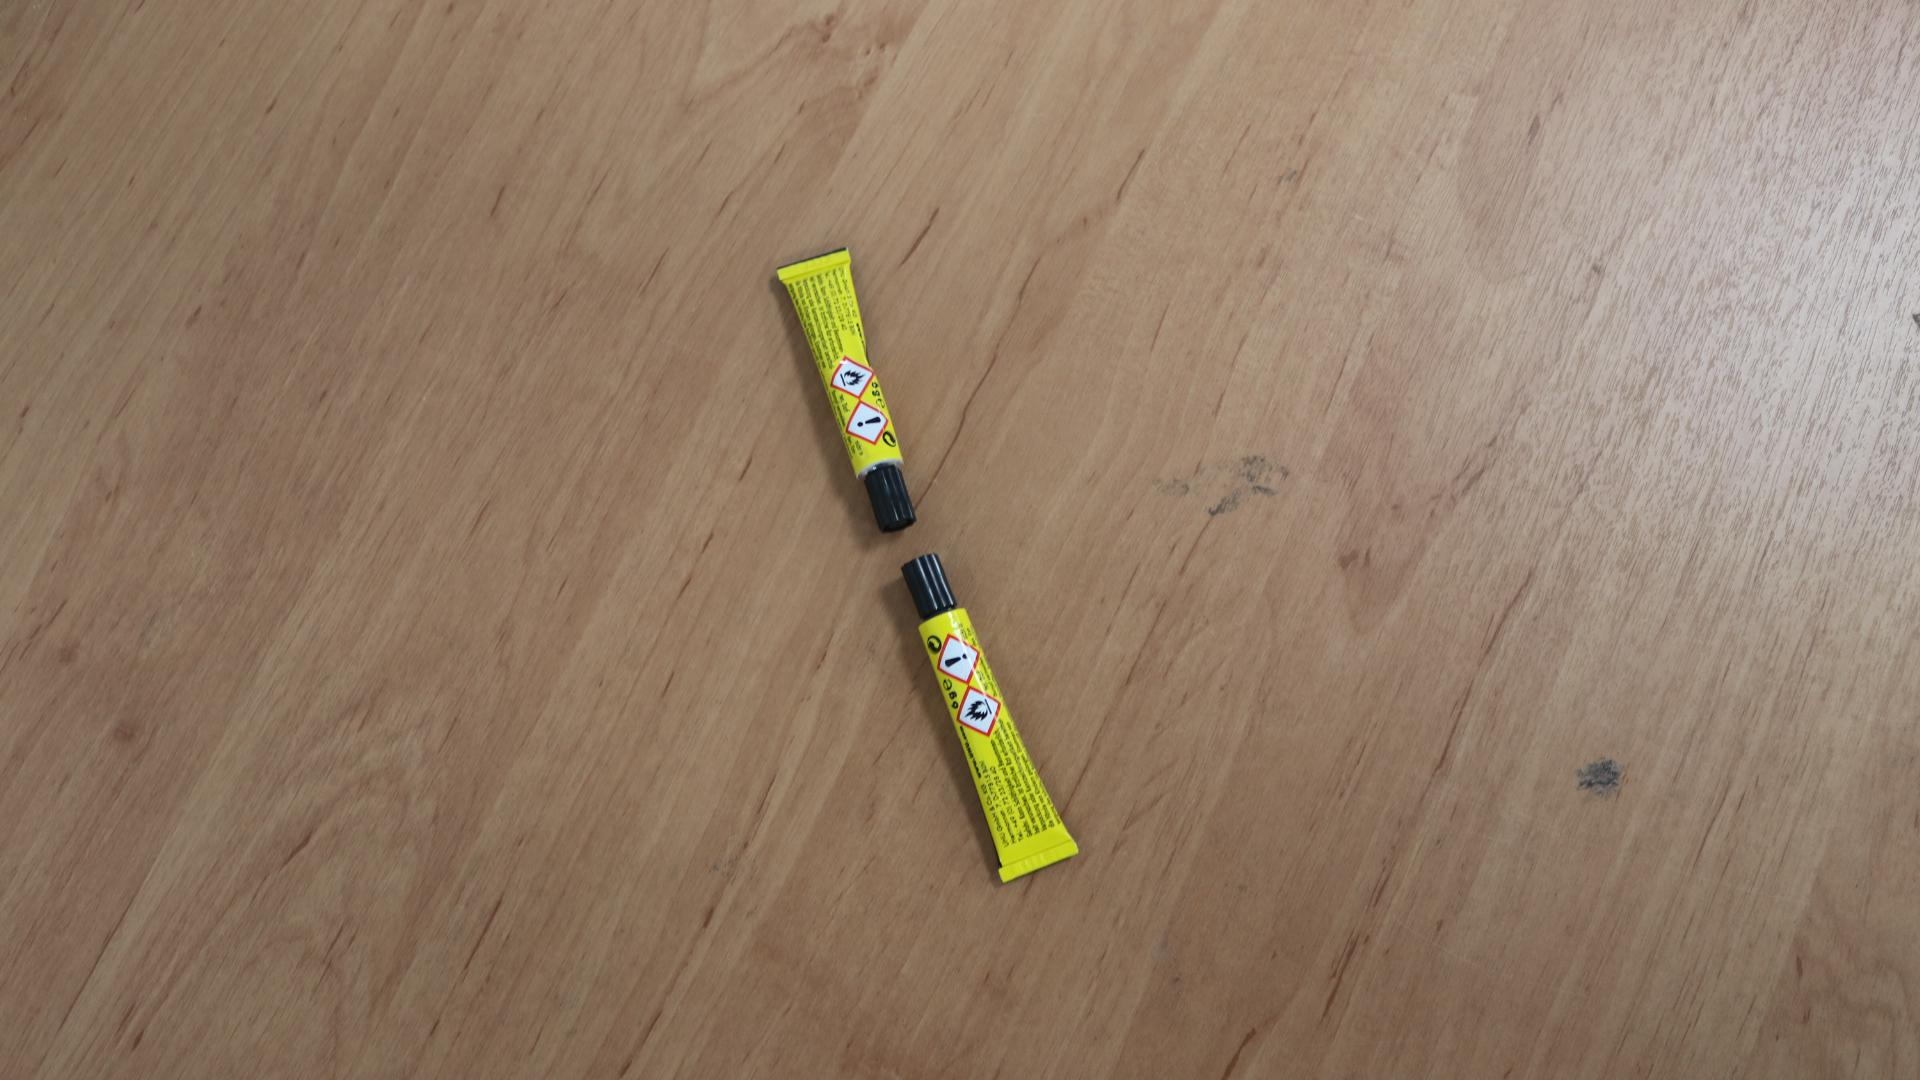Head: (927, 584, 929, 586), (888, 494, 889, 495)
Tail: (810, 264, 812, 266), (1033, 861, 1035, 863)
Tube: (901, 552, 1079, 883), (776, 246, 917, 534)
